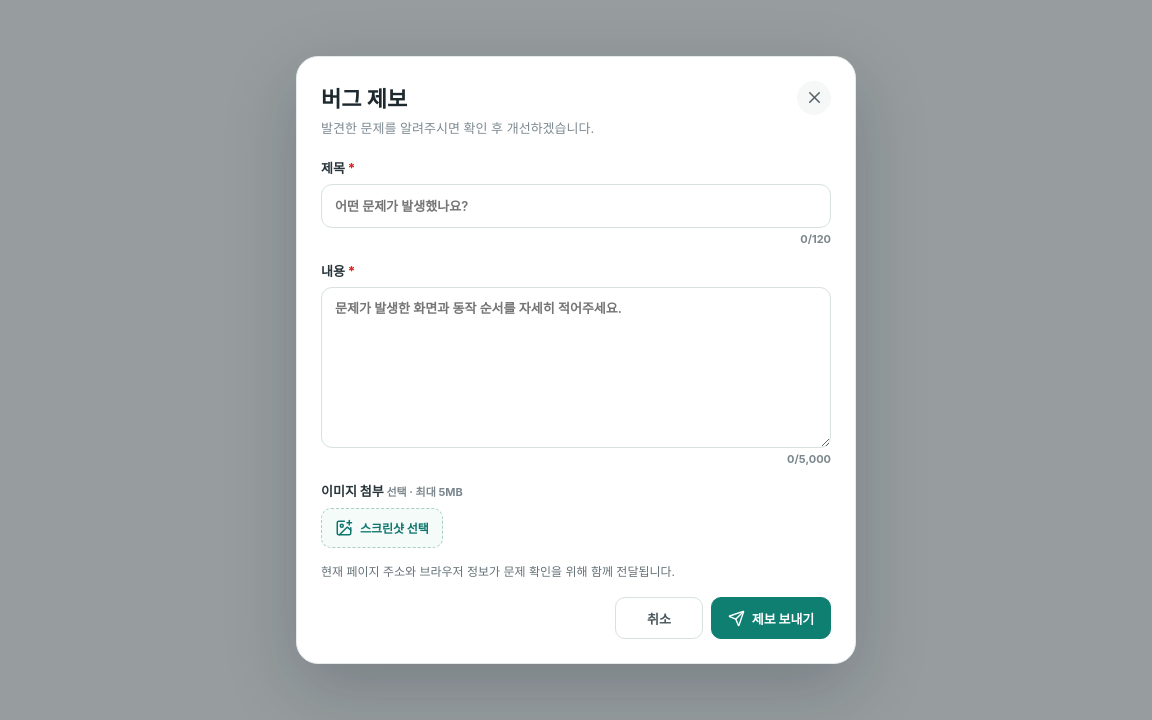
BugReportModal › shows a Korean recovery message when the mail service is unavailable
Step 1. Type "검색 결과가 보이지 않아요" into the field labelled "제목 * 0/120" → x=576, y=206, box 321,184 -> 831,228
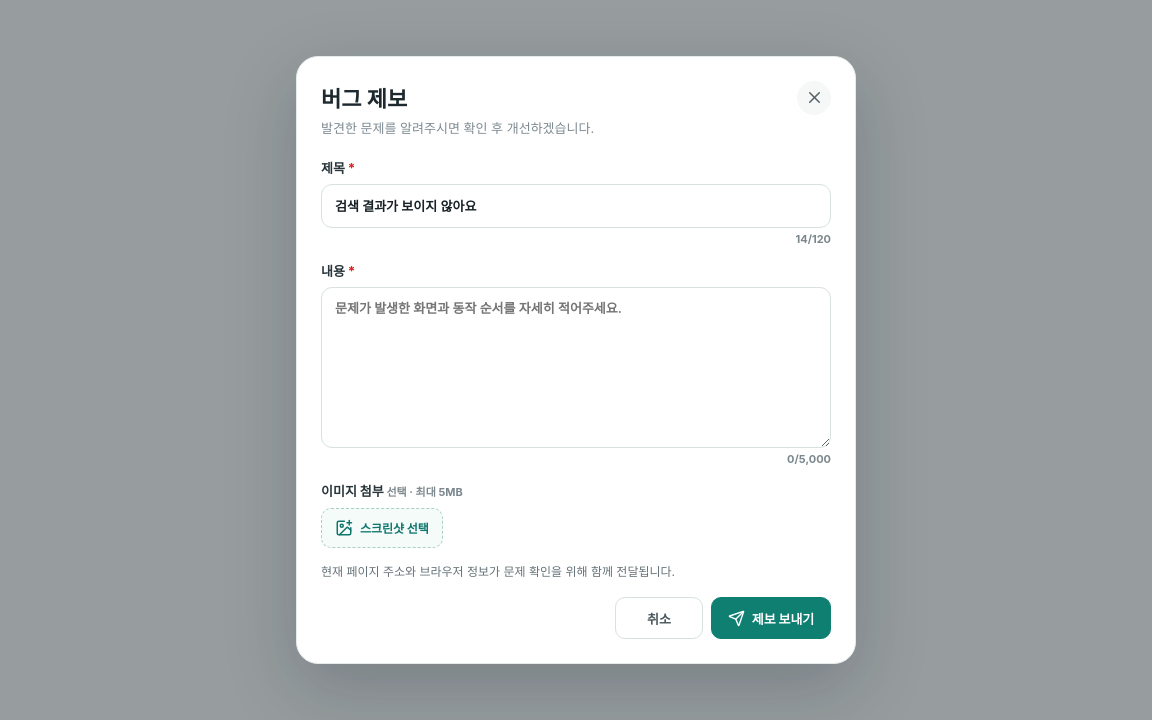
Step 2. Type "검색 버튼을 누르면 결과 목록이 사라집니다." into the text box labelled "내용 * 0/5,000" → x=576, y=368, box 321,287 -> 831,448
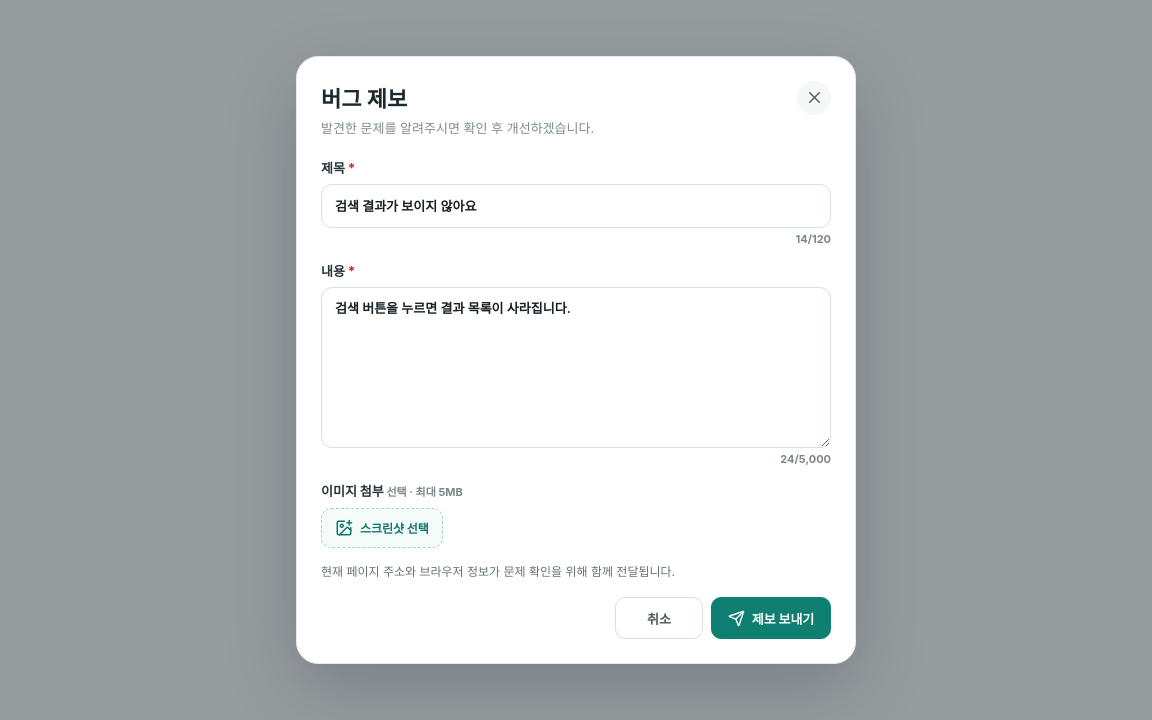
Step 3. Submit the form named "버그 제보 양식", box 321,158 -> 831,639
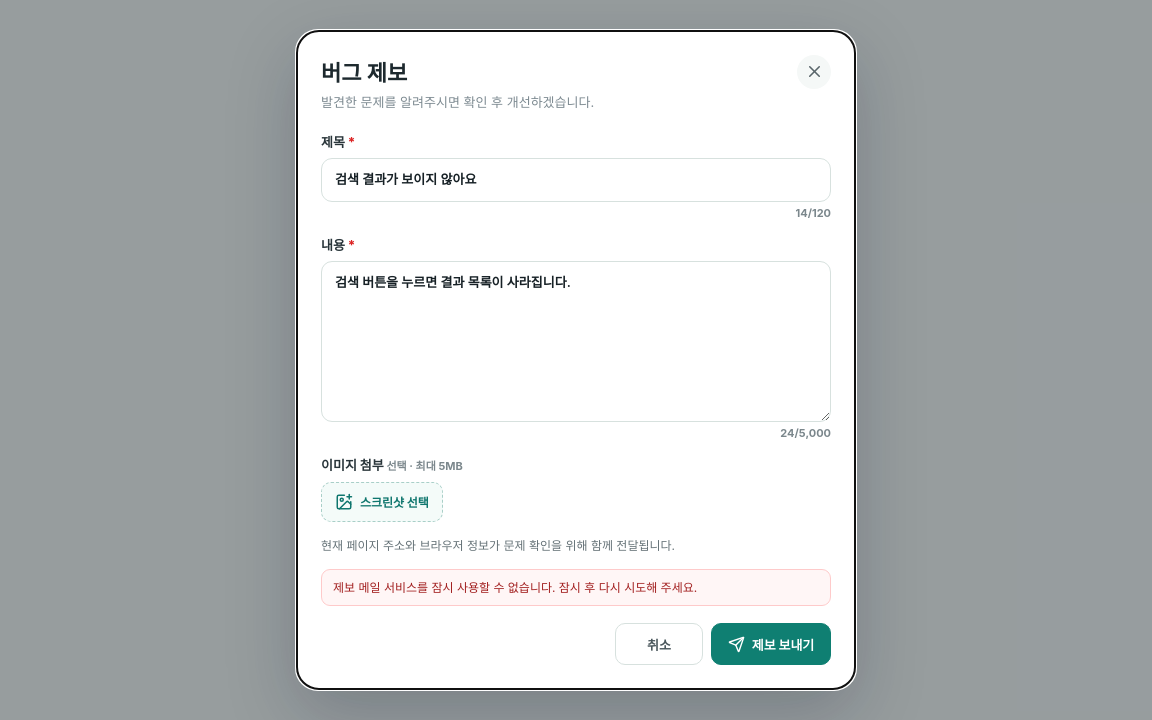
Now the message shows "제보 메일 서비스를 잠시 사용할 수 없습니다", box 333,580 -> 697,595
